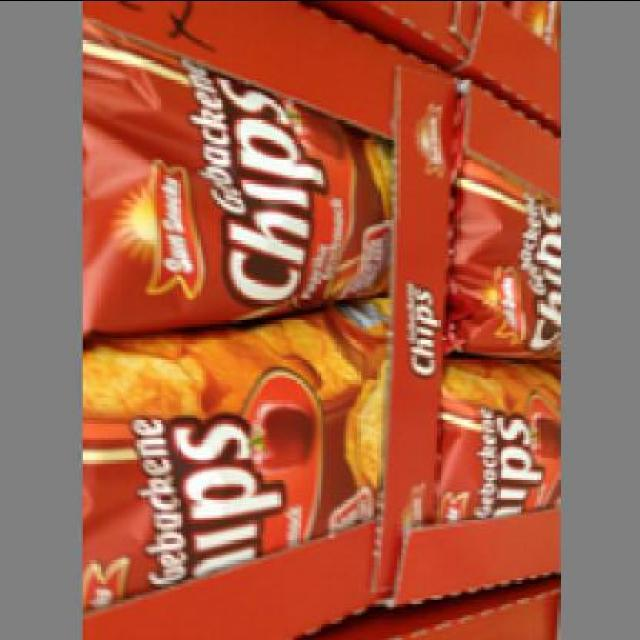Chips: (84, 49, 388, 337), (86, 334, 384, 606)
